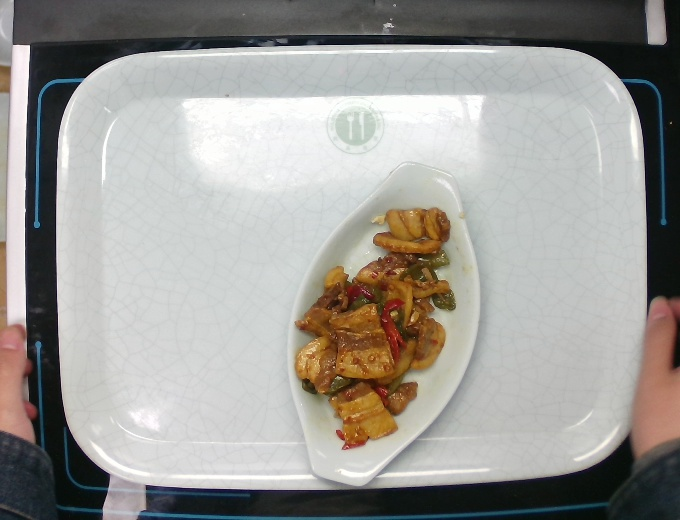JYsf-Yu_Pan: (284, 157, 486, 488)
